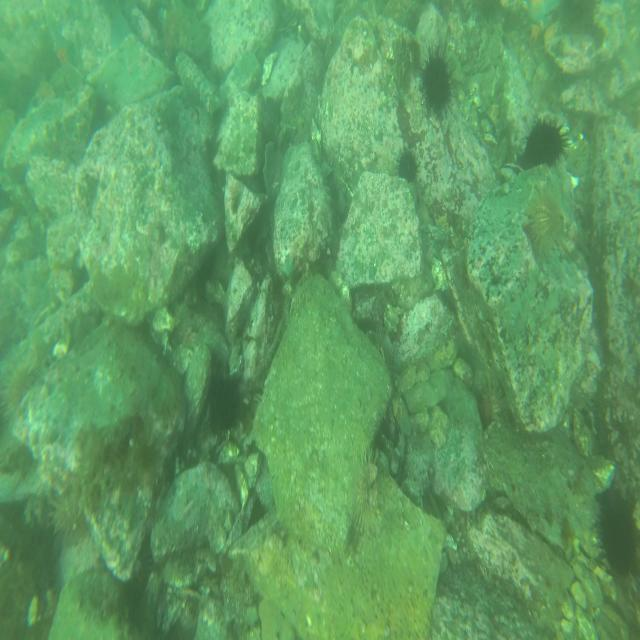echinus: (598, 491, 640, 585), (352, 446, 390, 530), (524, 193, 566, 258), (521, 116, 567, 169), (422, 48, 453, 114), (208, 374, 240, 434), (395, 146, 421, 182)
starfish: (50, 32, 76, 73)
